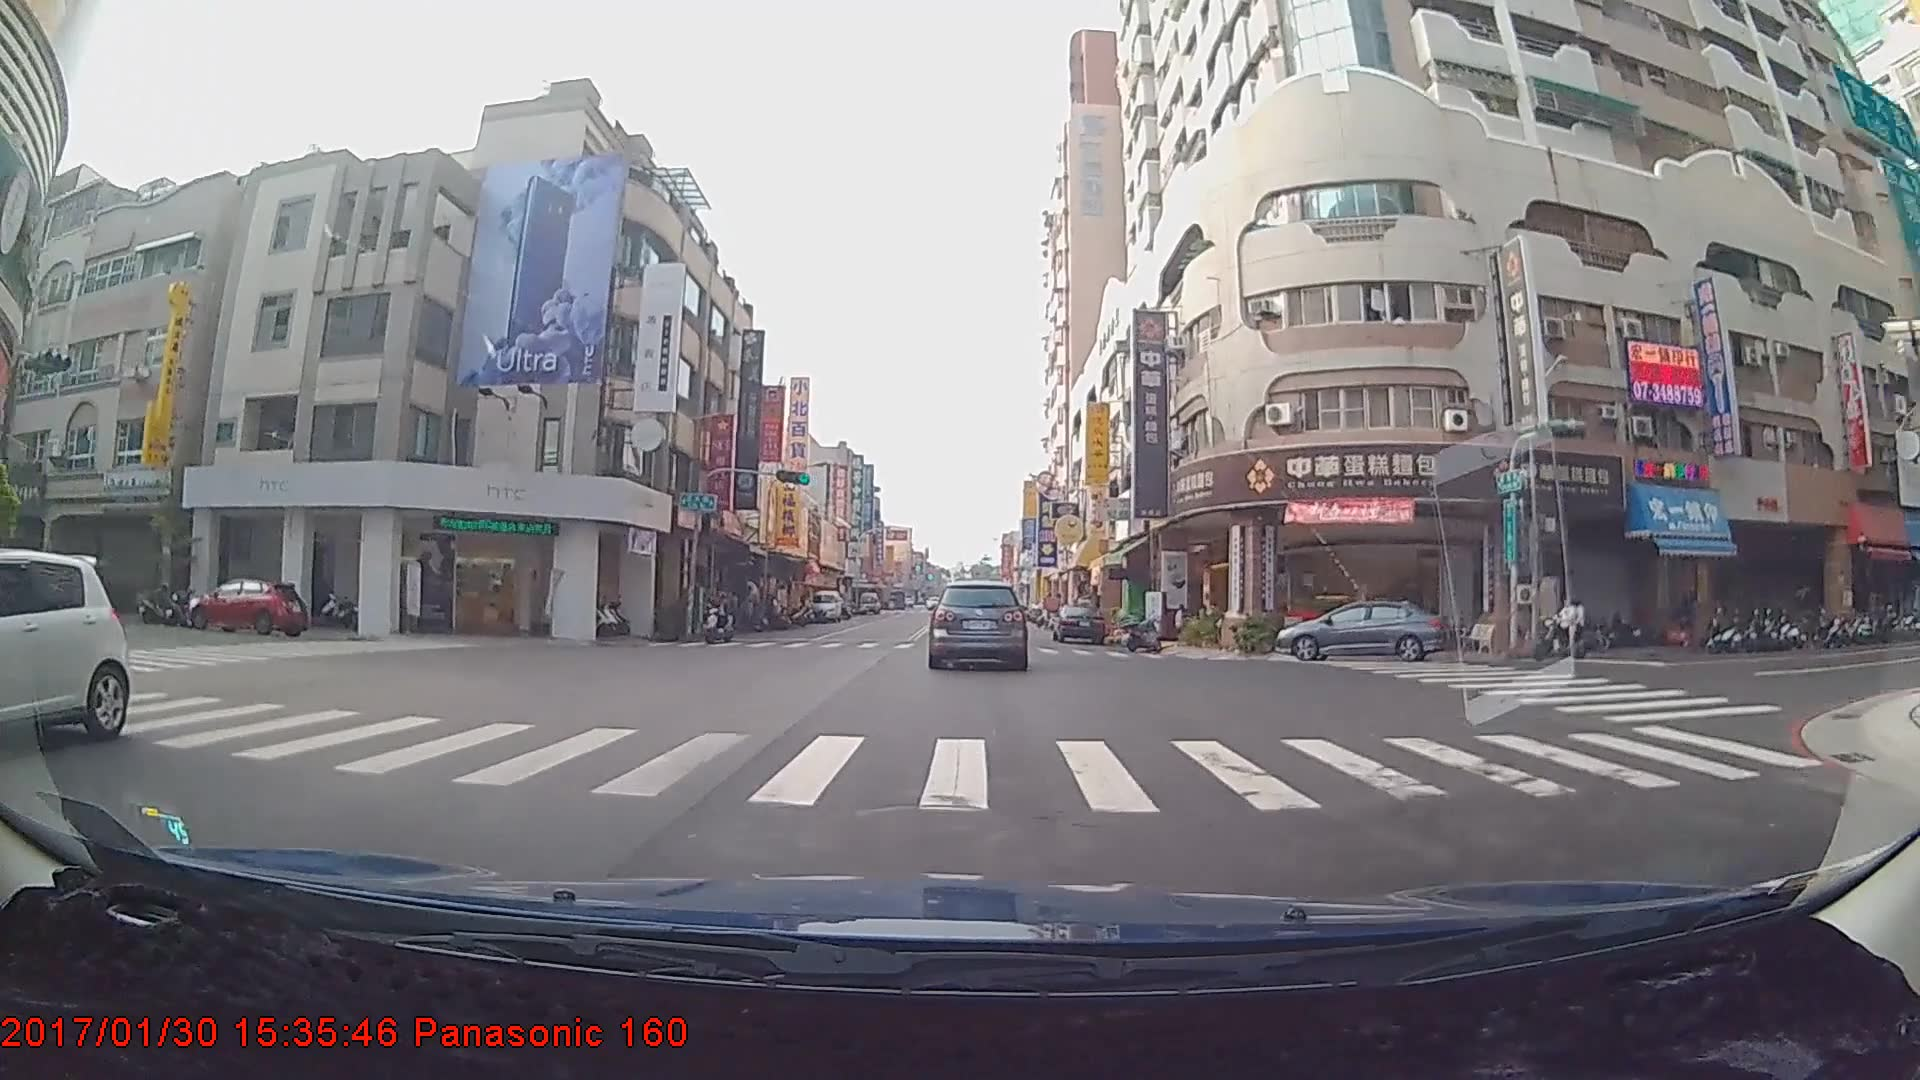rider: (1540, 591, 1600, 654), (699, 579, 737, 639)
vehicle: (0, 545, 130, 772), (1274, 596, 1443, 658), (930, 581, 1026, 670), (190, 575, 306, 637), (1050, 599, 1105, 643), (805, 586, 842, 619)
